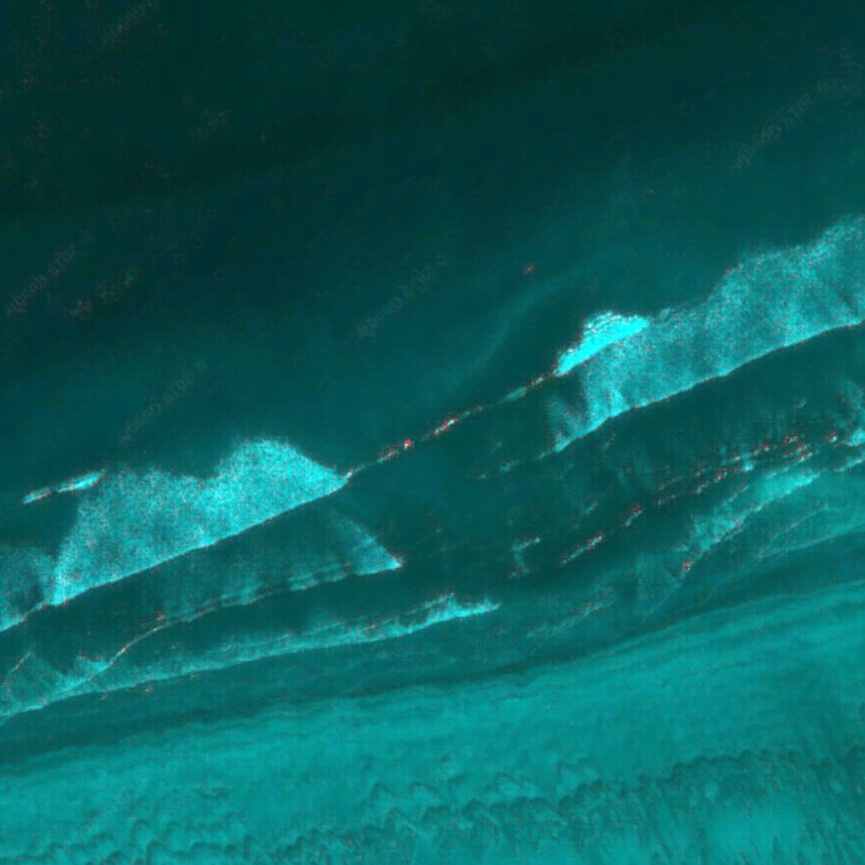rip_current: (265, 294, 602, 602)
